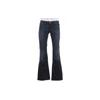pantaloni: (38, 19, 62, 80)
